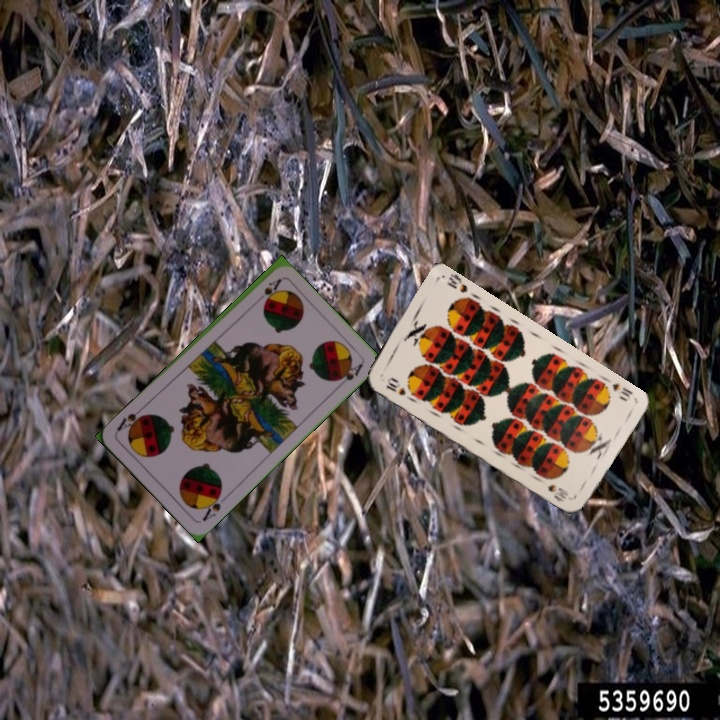S10: (608, 379, 635, 404), (382, 375, 408, 398)
SA: (198, 487, 230, 524), (250, 275, 284, 307)
